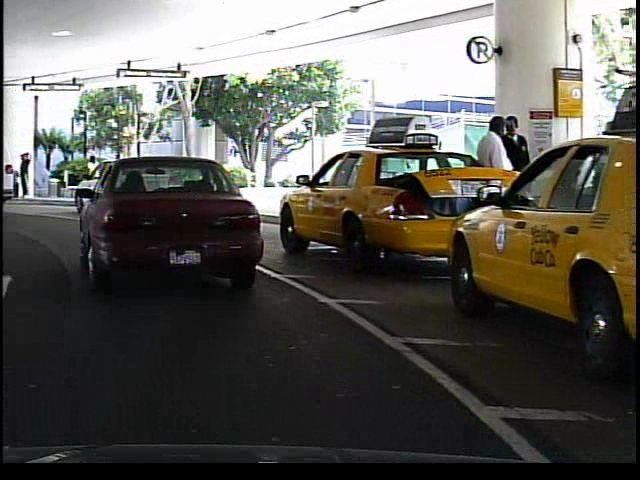person: (472, 112, 514, 245), (499, 112, 540, 241), (80, 152, 104, 197), (14, 145, 32, 203)
